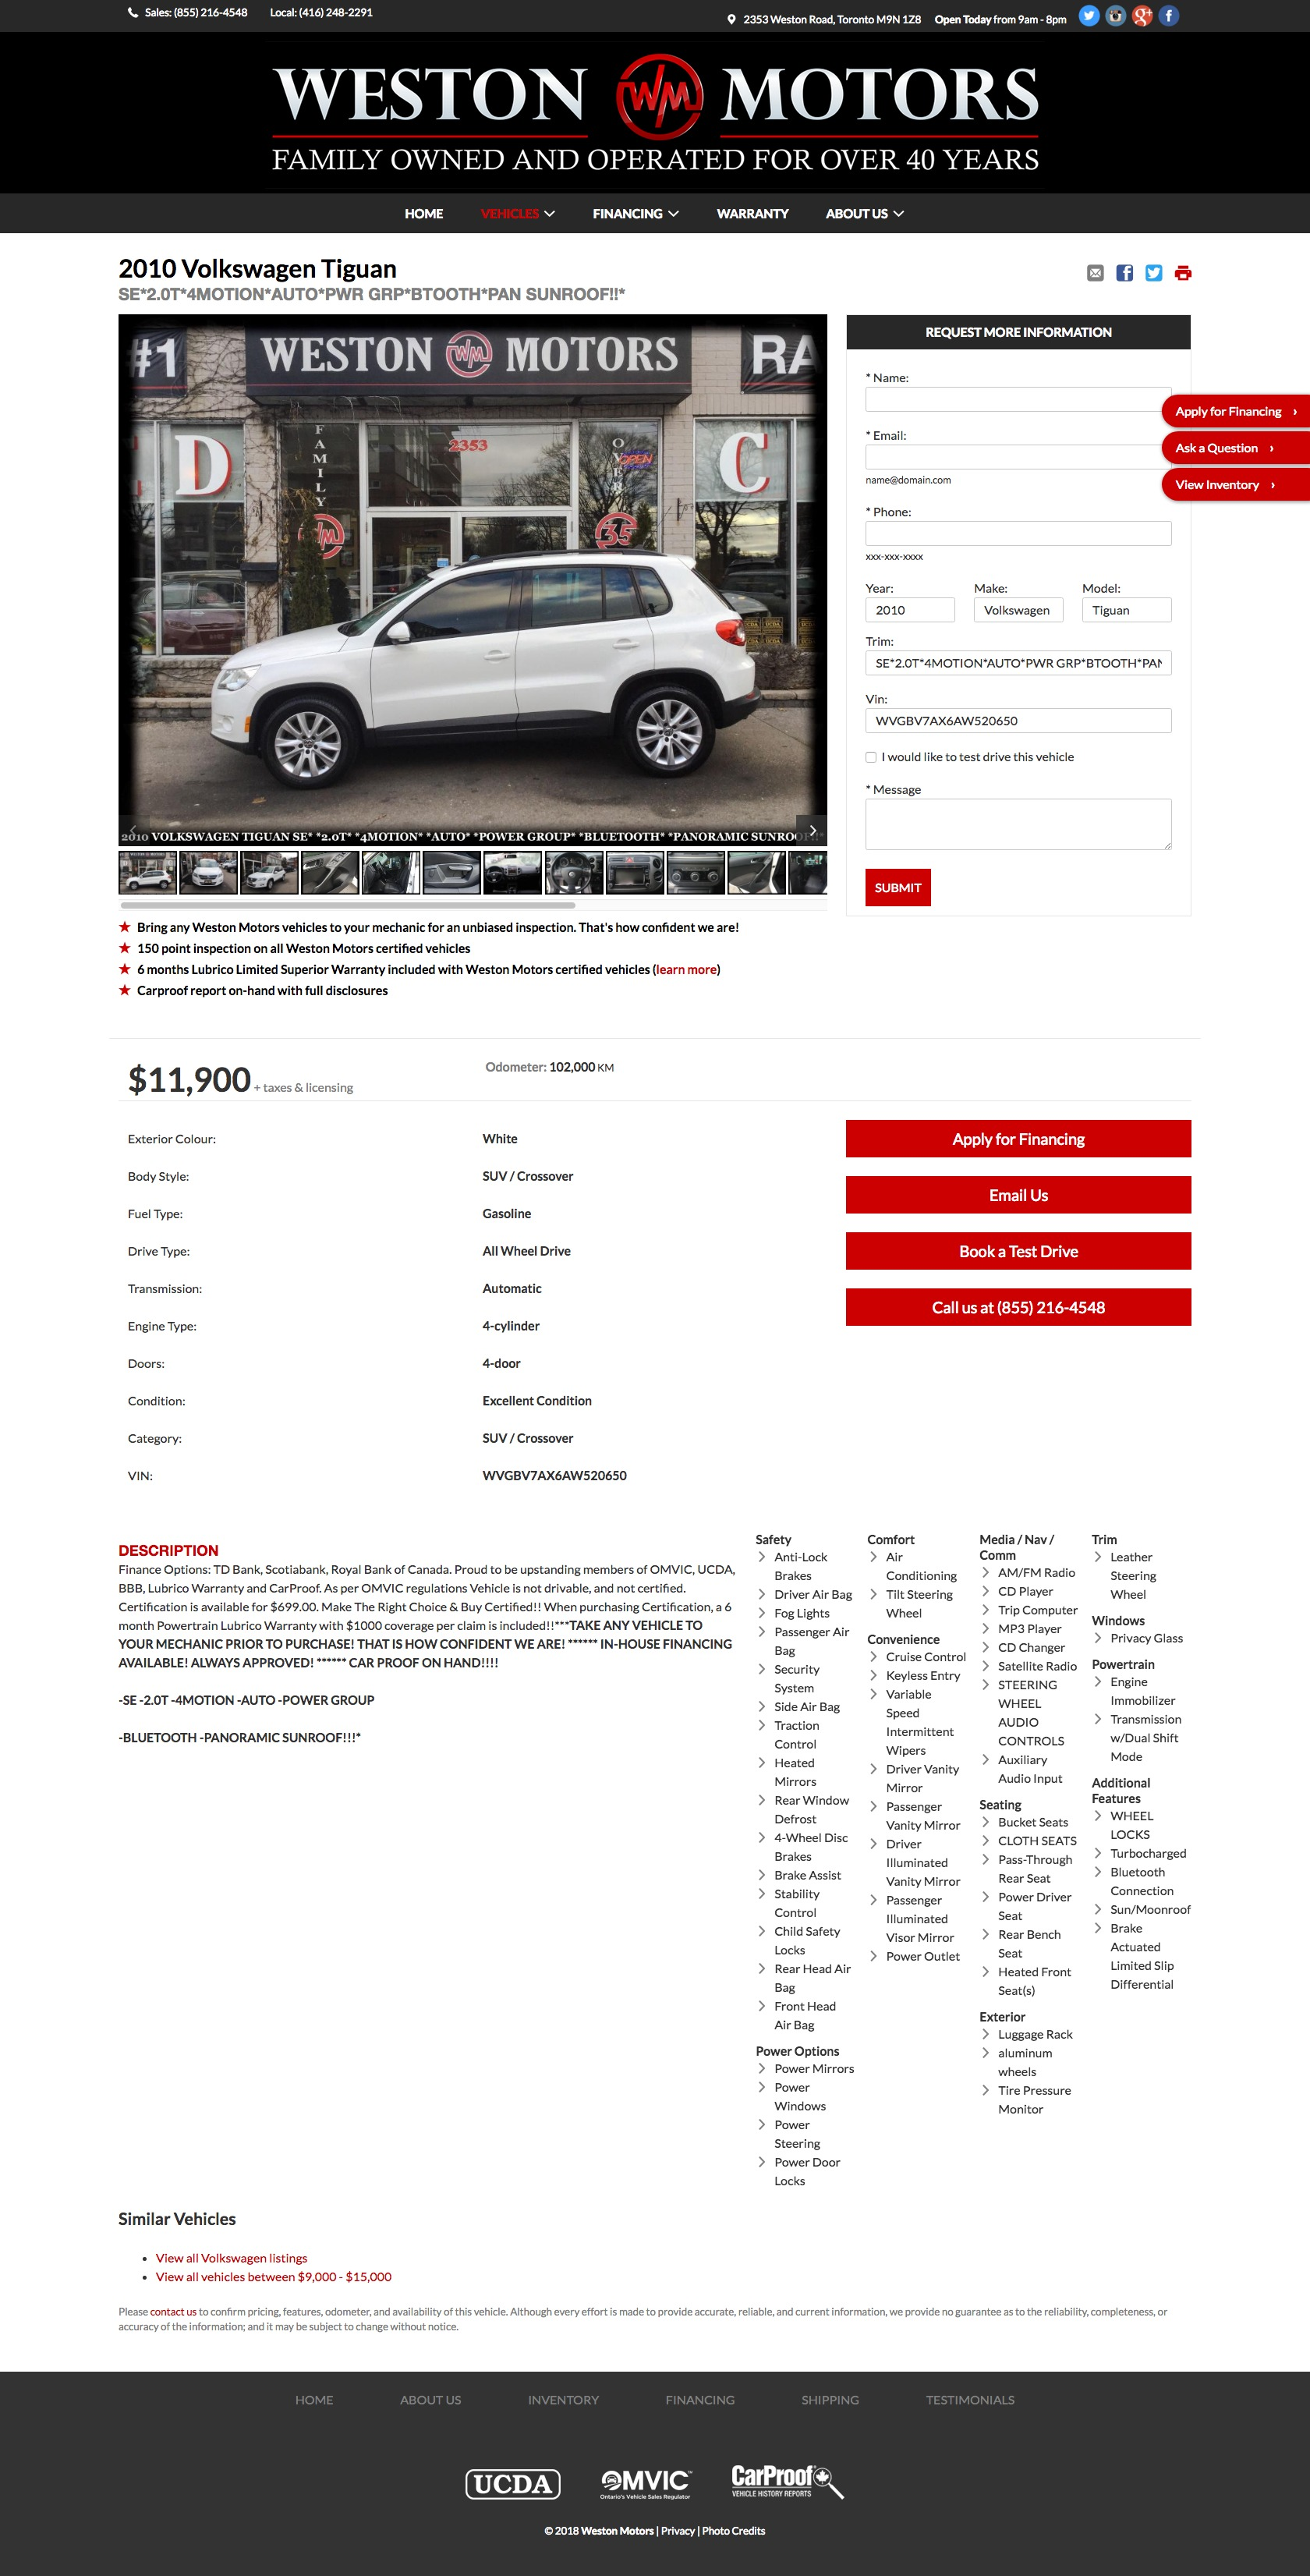car: (810, 825, 817, 837)
